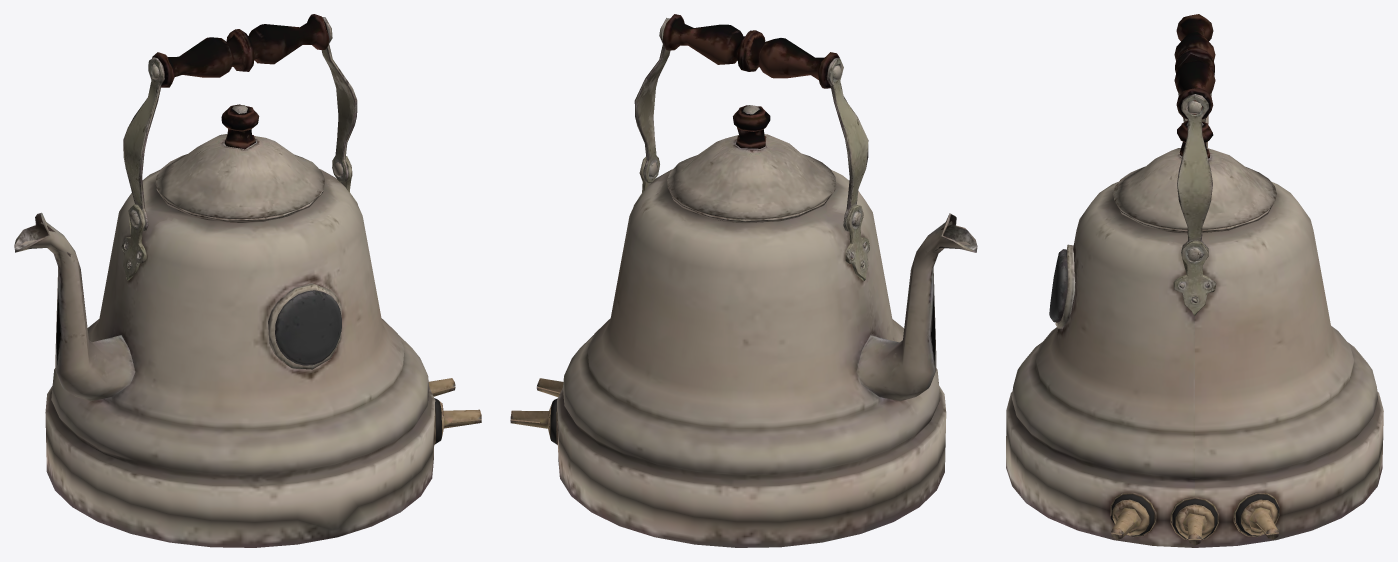
The model's file is vintage_electric_kettle.glb.
The picture shows the model from 3 angles, left to right: view 1: azimuth 30°, elevation 25°; view 2: azimuth 150°, elevation 25°; view 3: azimuth 270°, elevation 25°; orthographic projection. The views are drawn at different scales.
Visible parts, largest first — view 1: vintage_electric_kettle; view 2: vintage_electric_kettle; view 3: vintage_electric_kettle.
Boxes of the visible parts, x1=… form: vintage_electric_kettle: x1=14, y1=14, x2=481, y2=547; vintage_electric_kettle: x1=510, y1=14, x2=977, y2=547; vintage_electric_kettle: x1=1006, y1=14, x2=1383, y2=547.
Bounding box in the file's own units: 0.3201 × 0.3044 × 0.2478.
Materials: 2 (2 with a texture image).
